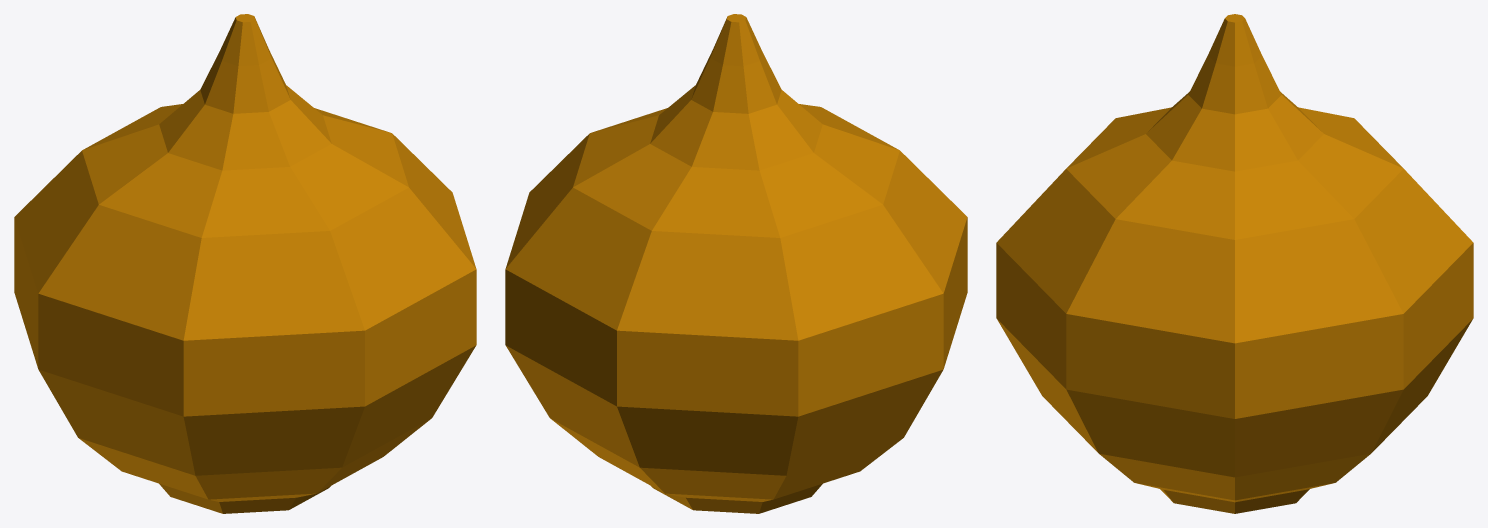
The model's file is onion03.gltf.
The picture shows the model from 3 angles, left to right: view 1: azimuth 30°, elevation 25°; view 2: azimuth 150°, elevation 25°; view 3: azimuth 270°, elevation 25°; orthographic projection.
Parts seen in each view (by area): view 1: Cylinder.001; view 2: Cylinder.001; view 3: Cylinder.001.
Boxes of the visible parts, x1=… form: Cylinder.001: x1=14, y1=14, x2=476, y2=513; Cylinder.001: x1=505, y1=14, x2=967, y2=513; Cylinder.001: x1=996, y1=14, x2=1473, y2=513.
Size of the model in its own units: 0.0553 by 0.0588 by 0.0553.
1 material, 1 textured.
